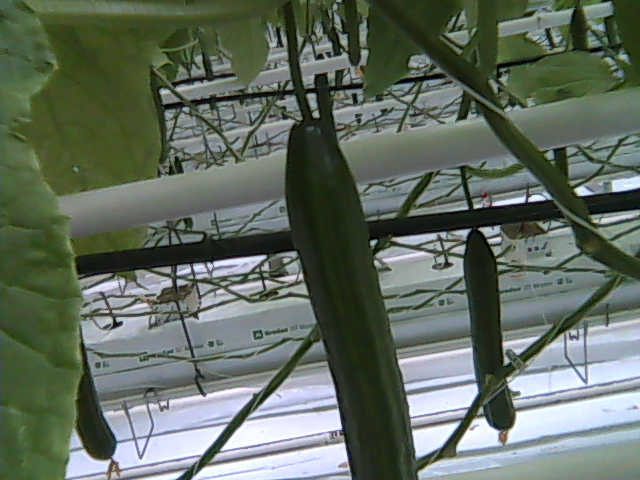concombre: (280, 112, 421, 480)
